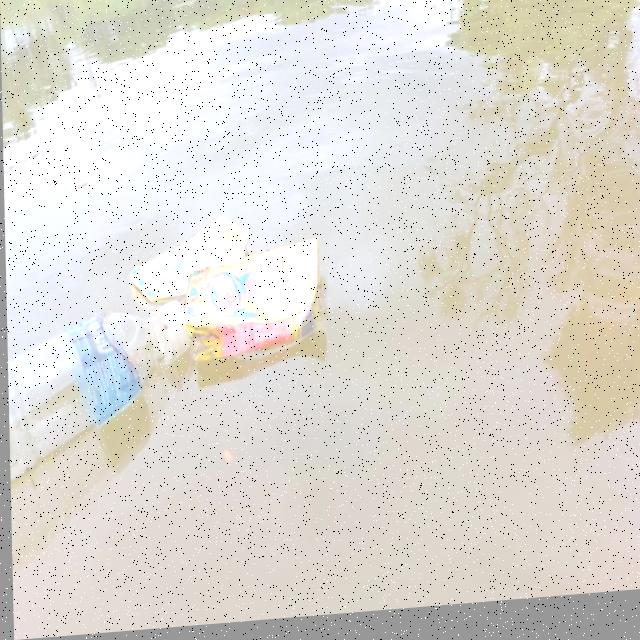paper: (183, 231, 333, 386), (111, 209, 251, 302)
waterbottle: (5, 295, 189, 526)
